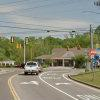Car: (22, 55, 45, 82)
